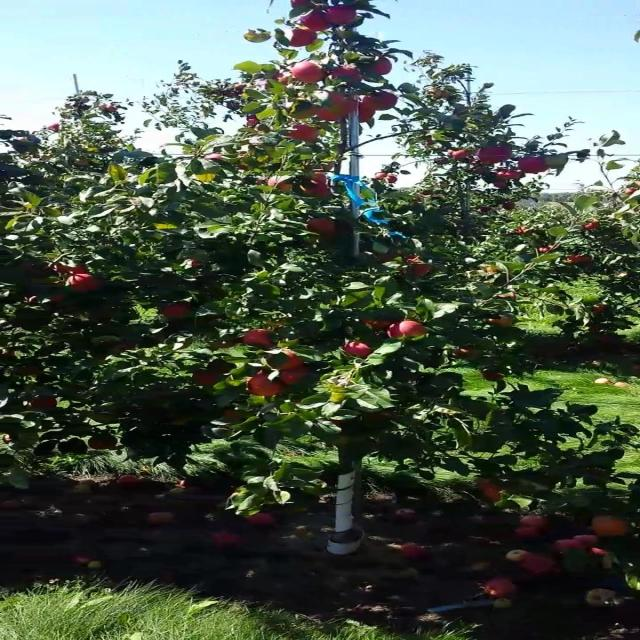apple: (248, 372, 284, 397), (596, 516, 631, 537), (390, 320, 428, 339), (291, 64, 327, 84), (362, 92, 398, 112), (476, 480, 507, 503), (269, 352, 306, 371), (305, 12, 334, 32), (291, 28, 320, 48), (276, 356, 306, 375), (70, 276, 103, 293), (241, 332, 276, 348), (326, 8, 357, 25), (284, 368, 313, 385), (518, 160, 549, 175), (483, 148, 512, 164), (333, 68, 363, 83), (412, 256, 434, 276), (163, 304, 192, 319), (291, 128, 320, 142), (28, 396, 57, 410), (348, 344, 375, 359), (369, 60, 393, 76), (191, 372, 220, 385), (212, 360, 235, 376), (56, 264, 89, 275), (312, 220, 336, 235), (319, 108, 343, 123), (291, 108, 318, 120), (92, 440, 117, 452), (305, 188, 332, 199), (362, 320, 395, 329), (490, 316, 514, 328), (269, 180, 293, 192), (454, 348, 480, 359), (362, 96, 377, 114), (497, 172, 526, 181), (340, 100, 357, 115), (483, 372, 505, 383), (362, 108, 377, 124), (276, 72, 293, 85), (333, 92, 347, 107), (113, 344, 139, 352), (227, 408, 244, 420), (20, 368, 43, 376), (248, 116, 263, 128), (184, 260, 203, 269), (312, 176, 329, 185), (49, 296, 66, 304), (454, 152, 469, 160), (291, 4, 313, 8), (497, 180, 508, 188), (205, 156, 222, 160)
